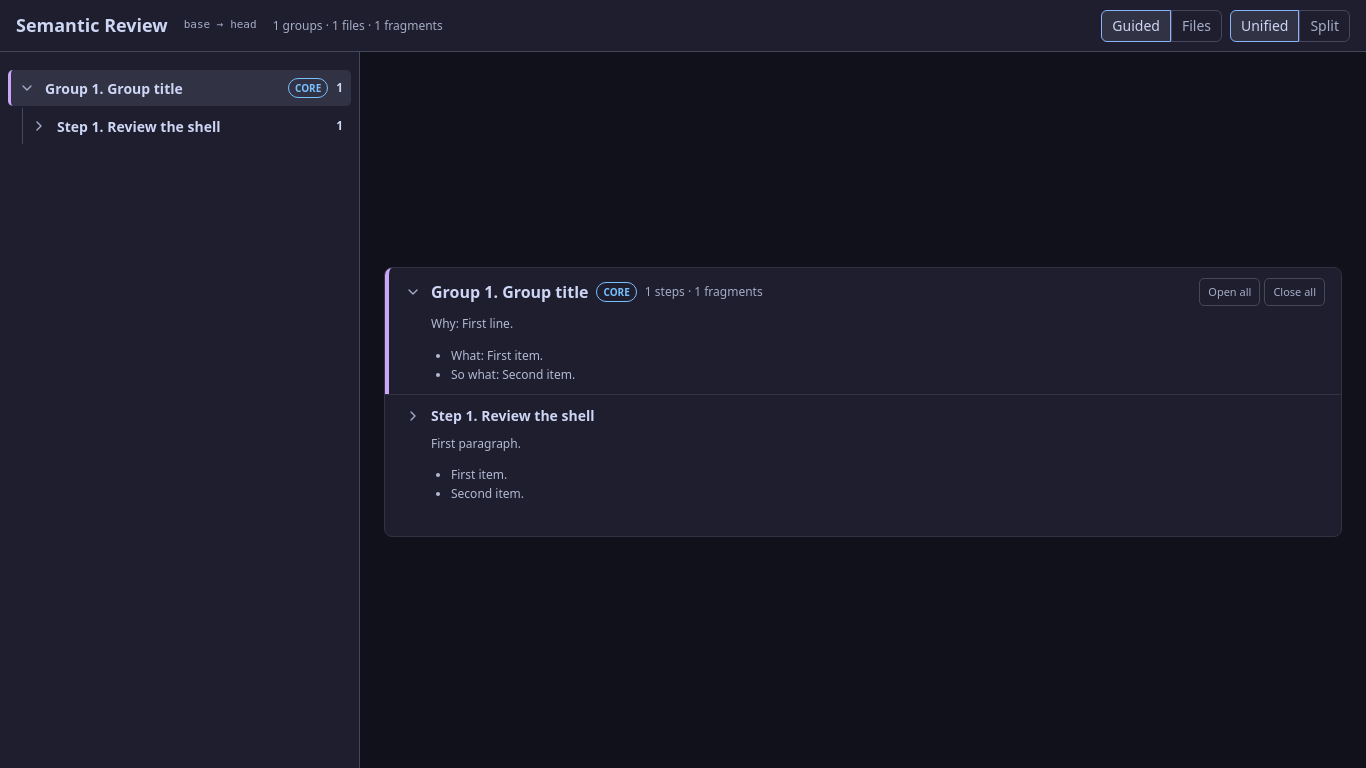
Test: viewer regressions › keeps group and step summaries in their collapsible headers
Click the 4th heading: (464, 292) 385,268 -> 1341,394
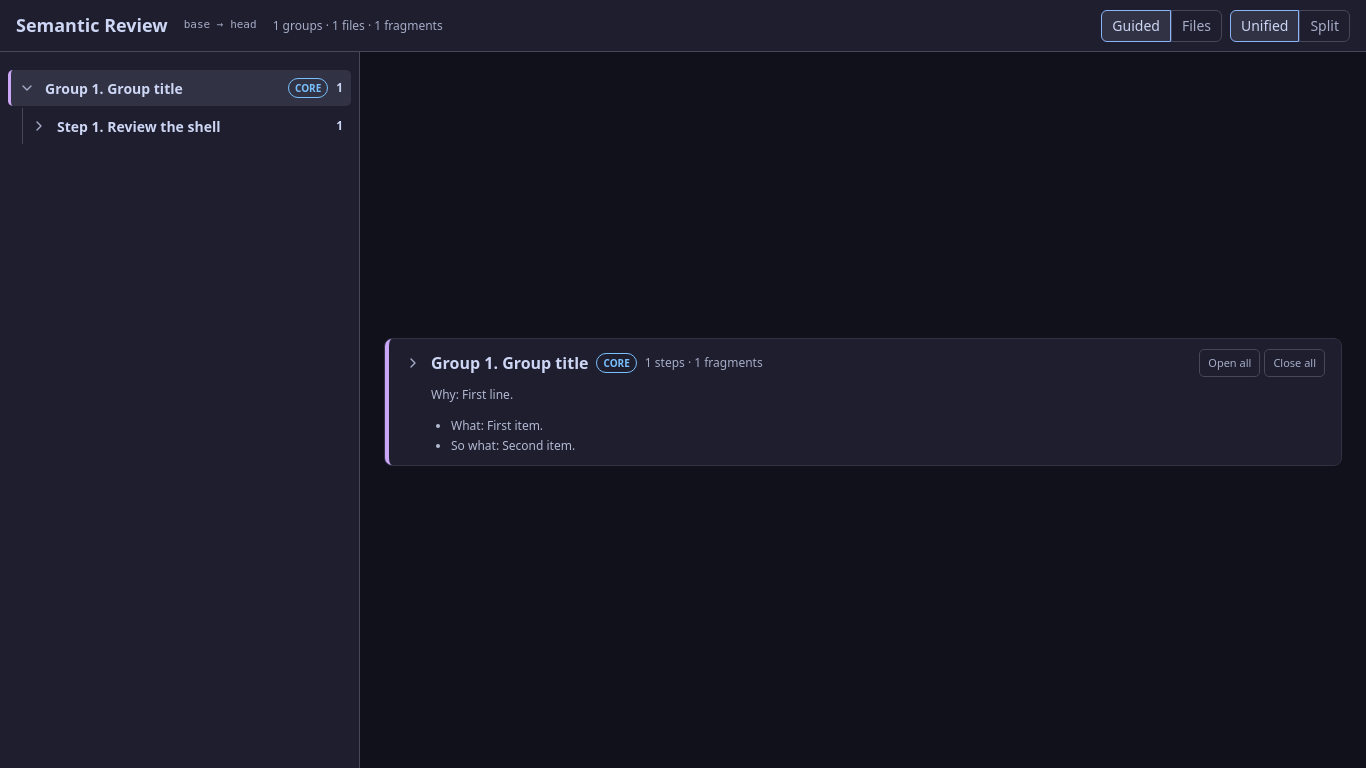
Expected: the text "Why: First line." is shown, 431,386 -> 513,403
Expected: the number of list items is 2, 451,417 -> 543,434; 451,437 -> 575,454
